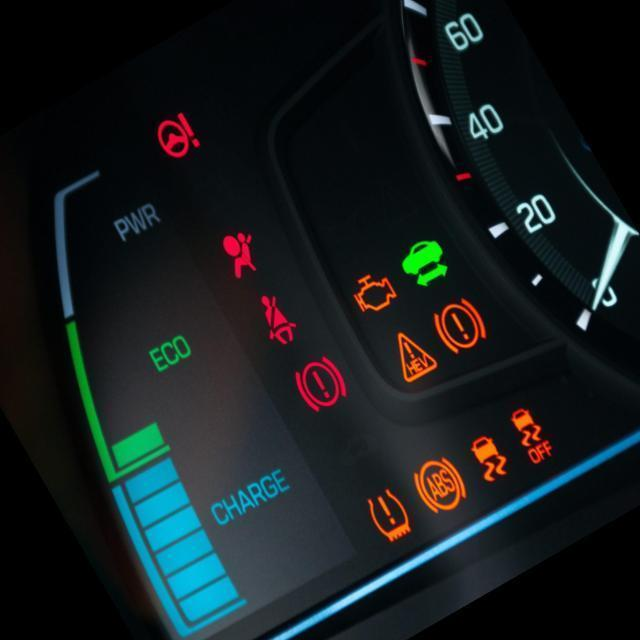Electronic Power Steering: (152, 115, 206, 162)
Seat Belt: (256, 294, 299, 346)
